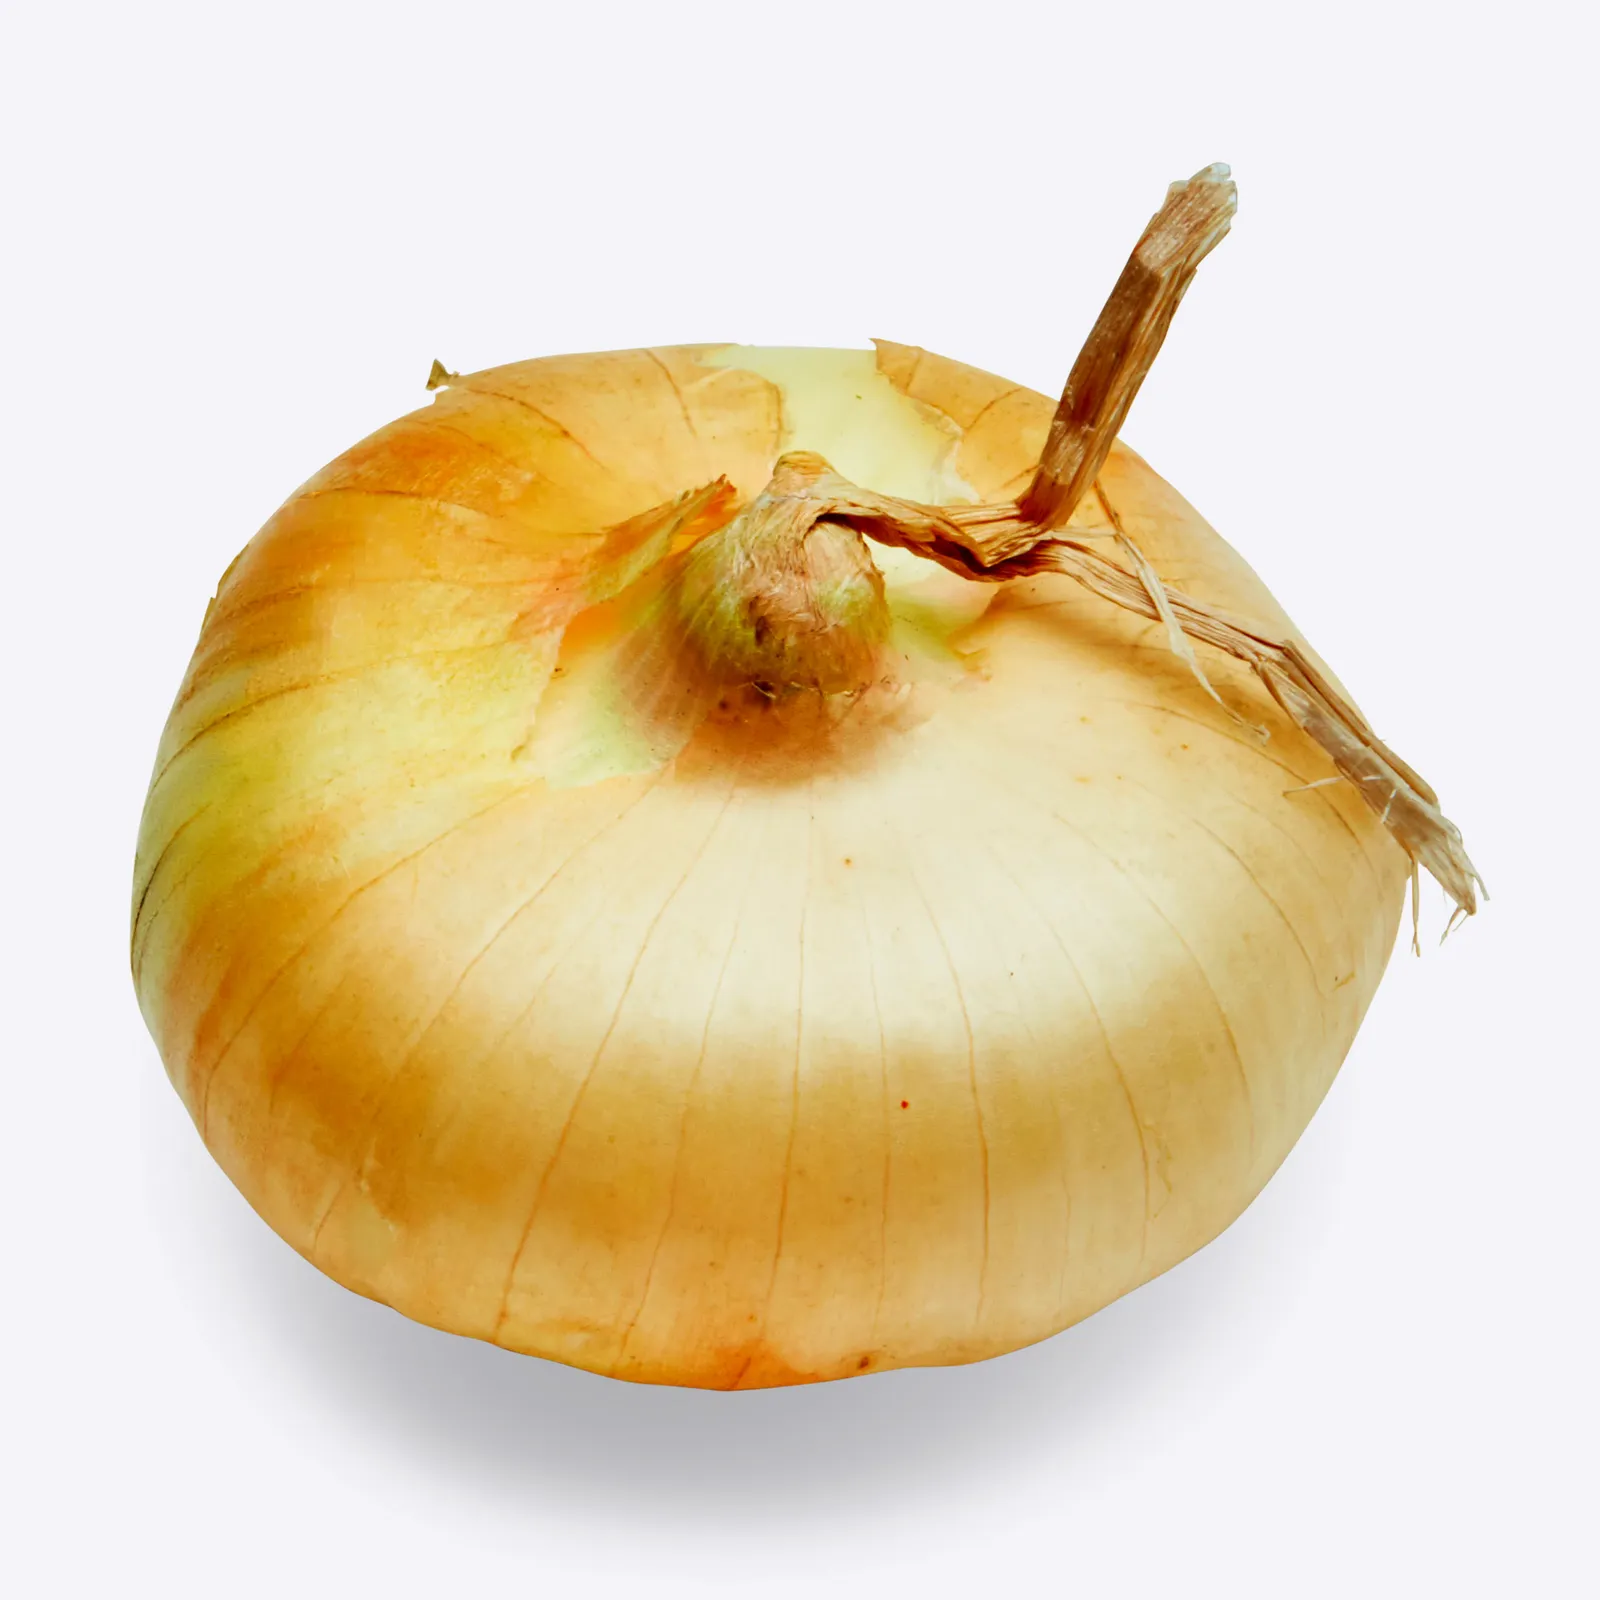onion: (97, 122, 1464, 1445)
